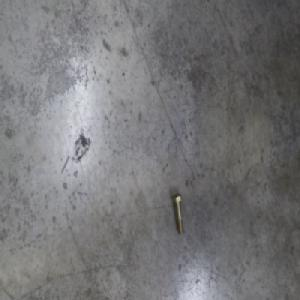Bolt: (169, 192, 183, 236)
